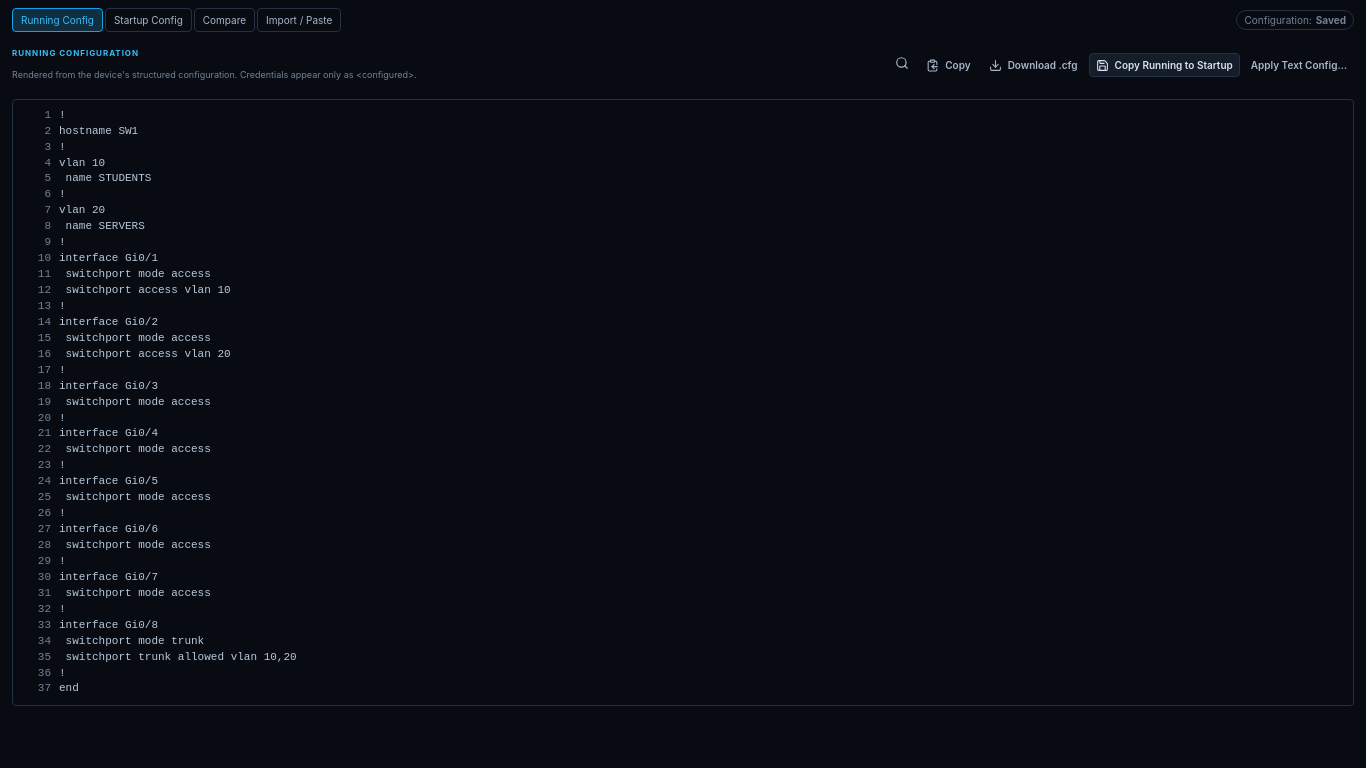
Test case: device configuration workspace › erases the startup configuration only after an explicit confirmation
expect the navigation bar named "Configuration sections" is shown: met, box [12,8,341,32]
Click the tab "Startup Config": (148,20) [105,8,192,32]
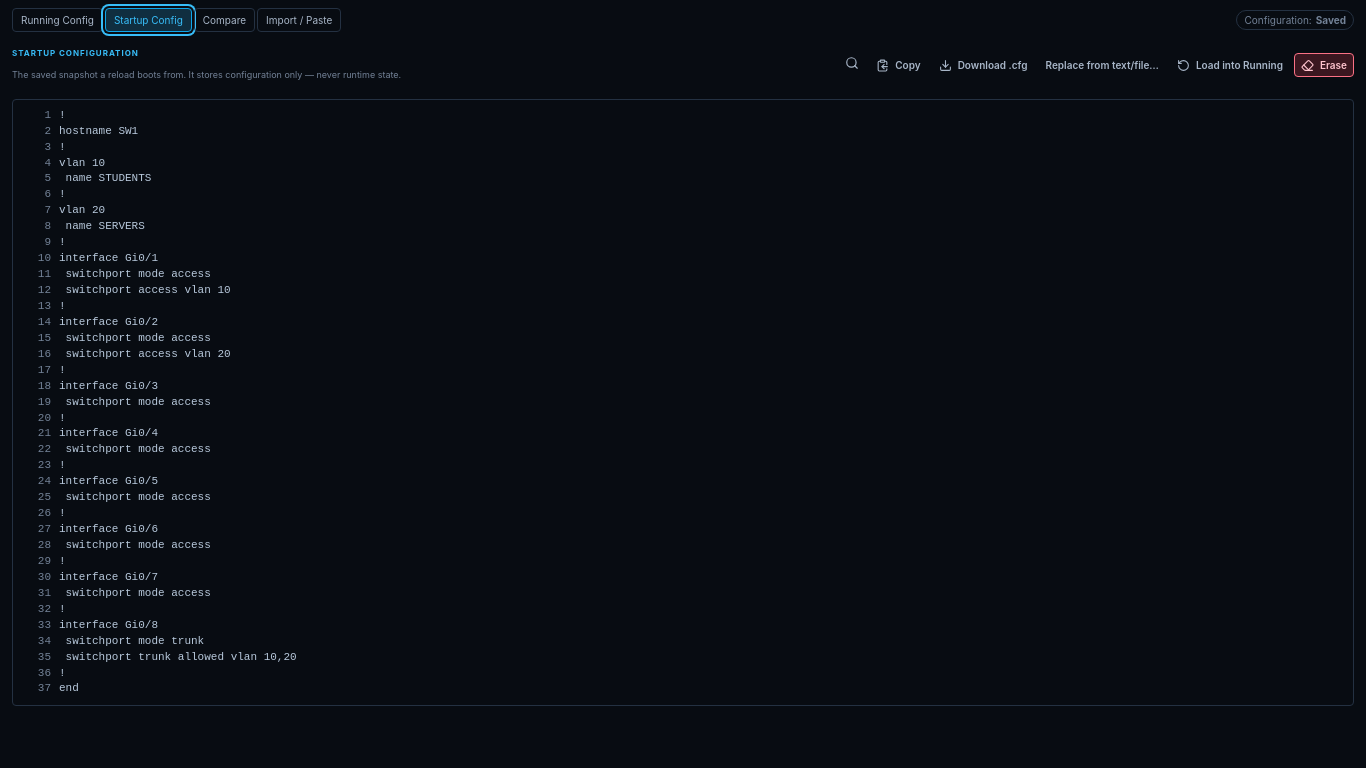
Click the button "Erase": (1324,65) [1294,53,1354,77]
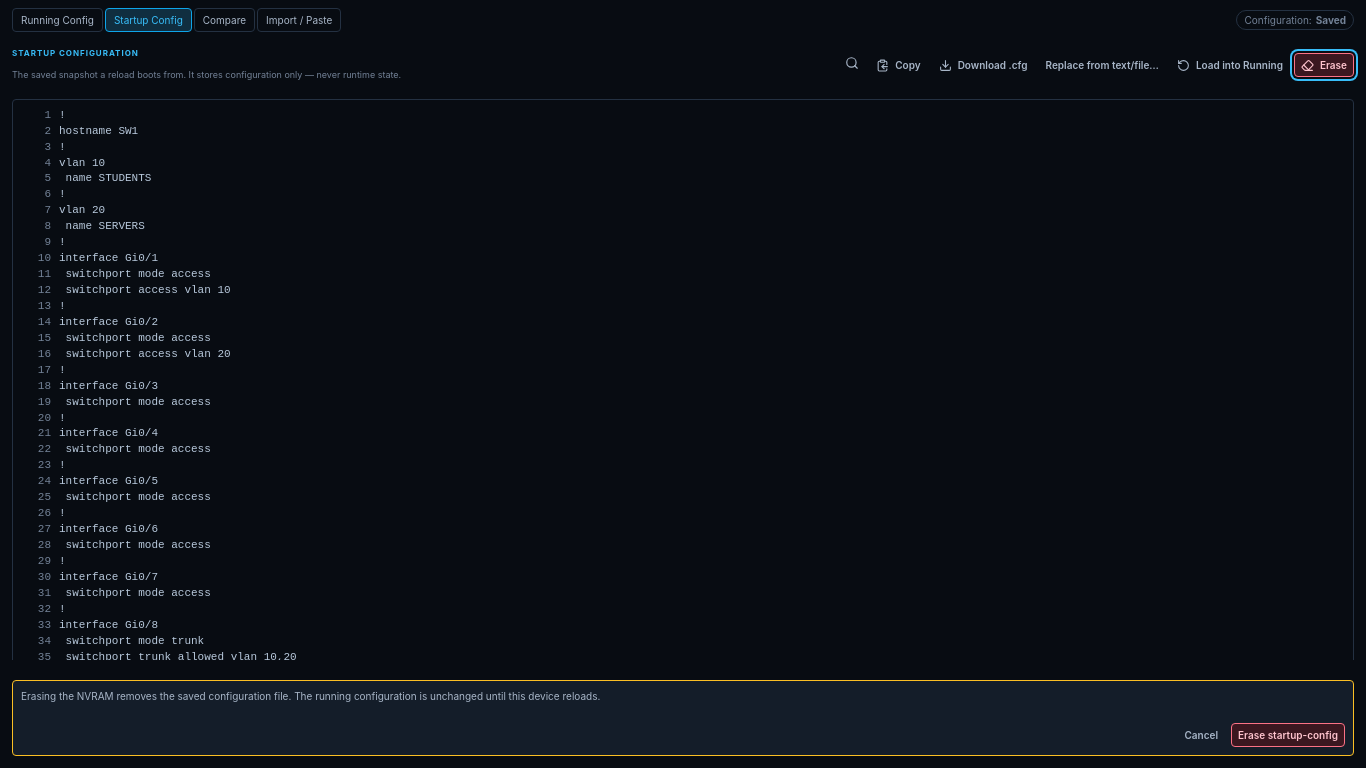
expect the dialog named "Erase startup-config" is shown: met, box [12,680,1354,756]
Click the button "Erase startup-config": (1288,735) [1231,723,1345,747]
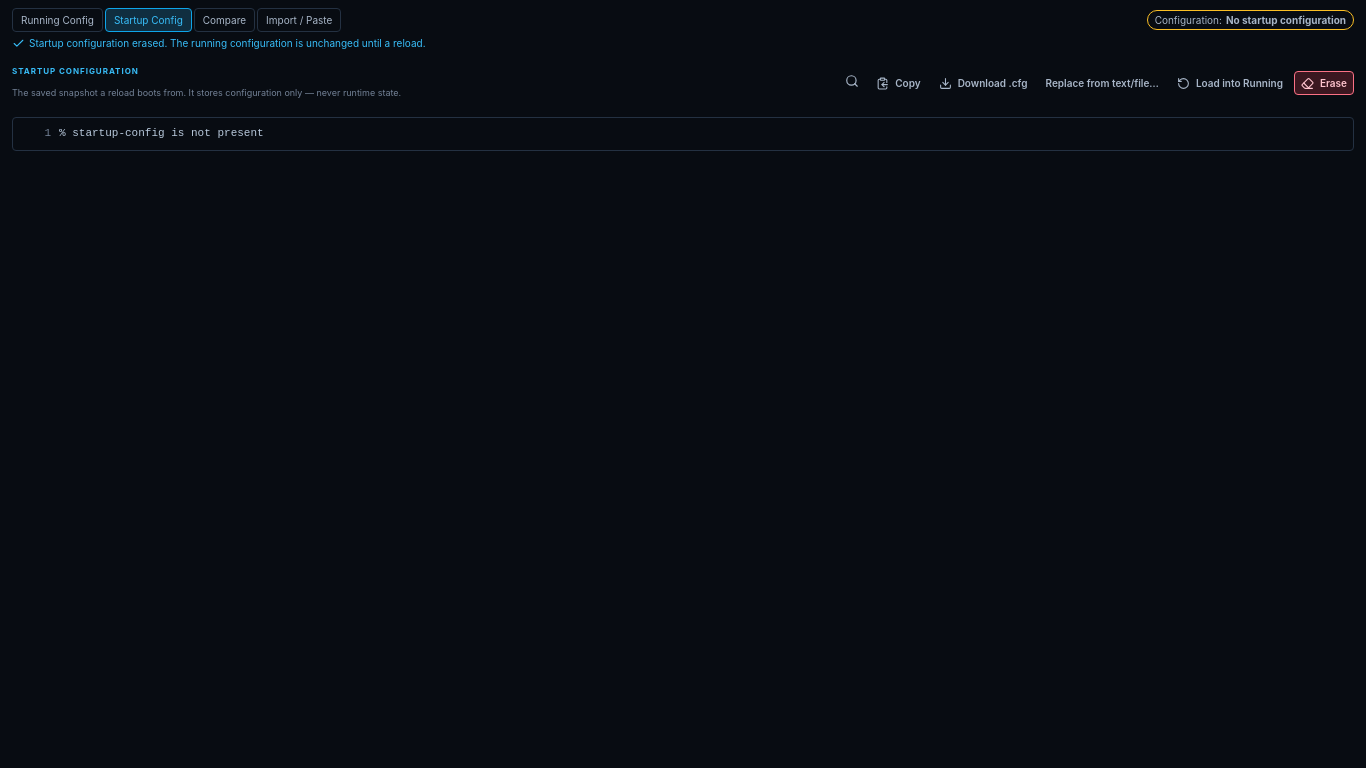
expect the text "Startup configuration erased" is shown: met, box [29,37,426,49]
expect the element named "Startup configuration" shows "% startup-config is not present": met, box [59,127,264,139]
